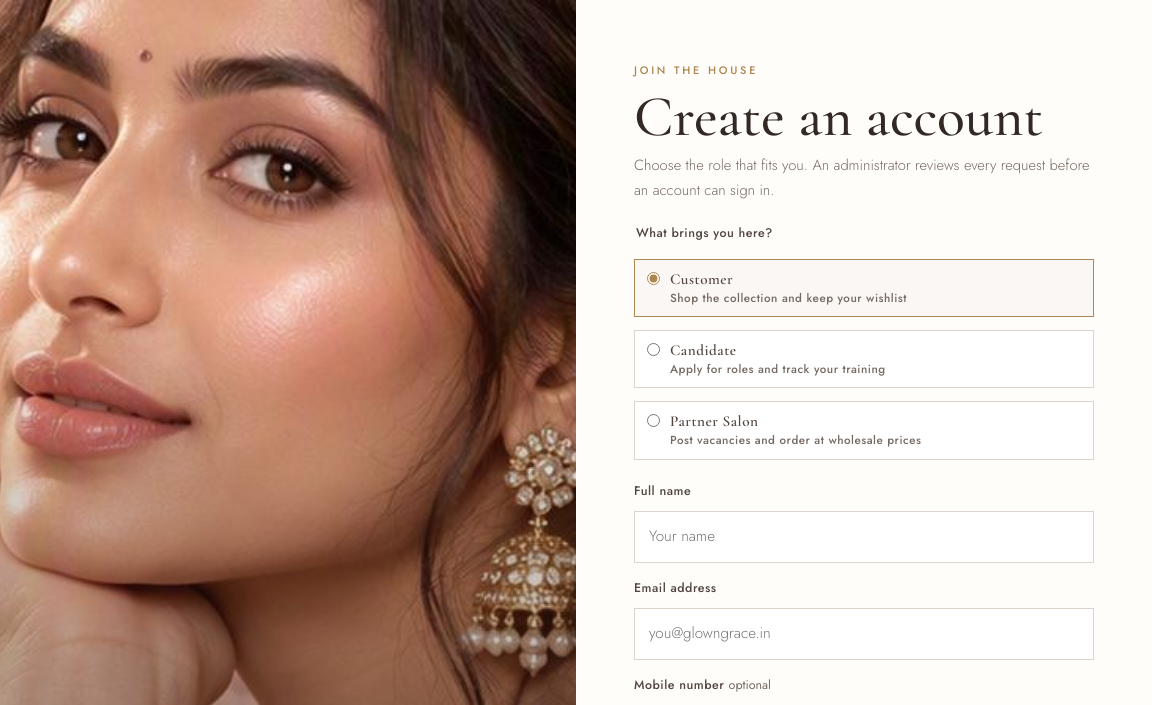
role-based registration › sends an address in lower case, the way the account is keyed
This screenshot has width=1152, height=705.
Type "Reha Qureshi" into the field labelled "Full name". click: (864, 537)
box: [634,511,1094,563]
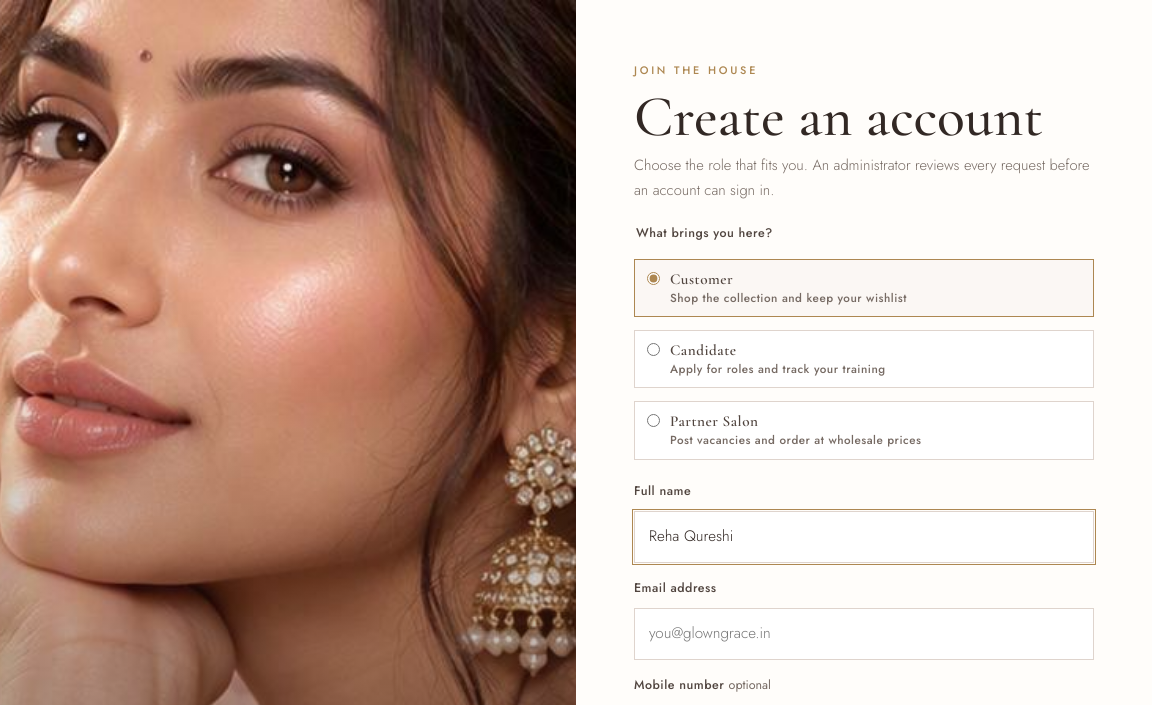
Type "  Reha@Example.COM " into the field labelled "Email address". click: (864, 634)
box: [634,608,1094,660]
(page scrolled)
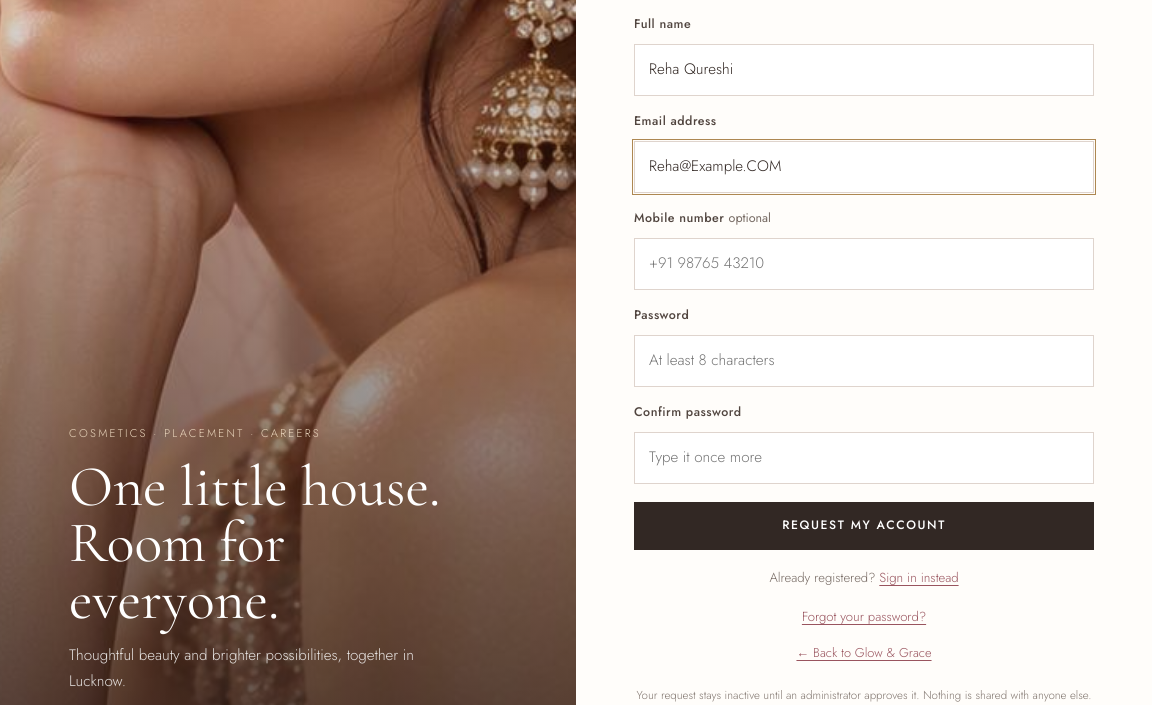
Type "a-good-password" into the password field labelled "Password". click: (864, 361)
box: [634,335,1094,387]
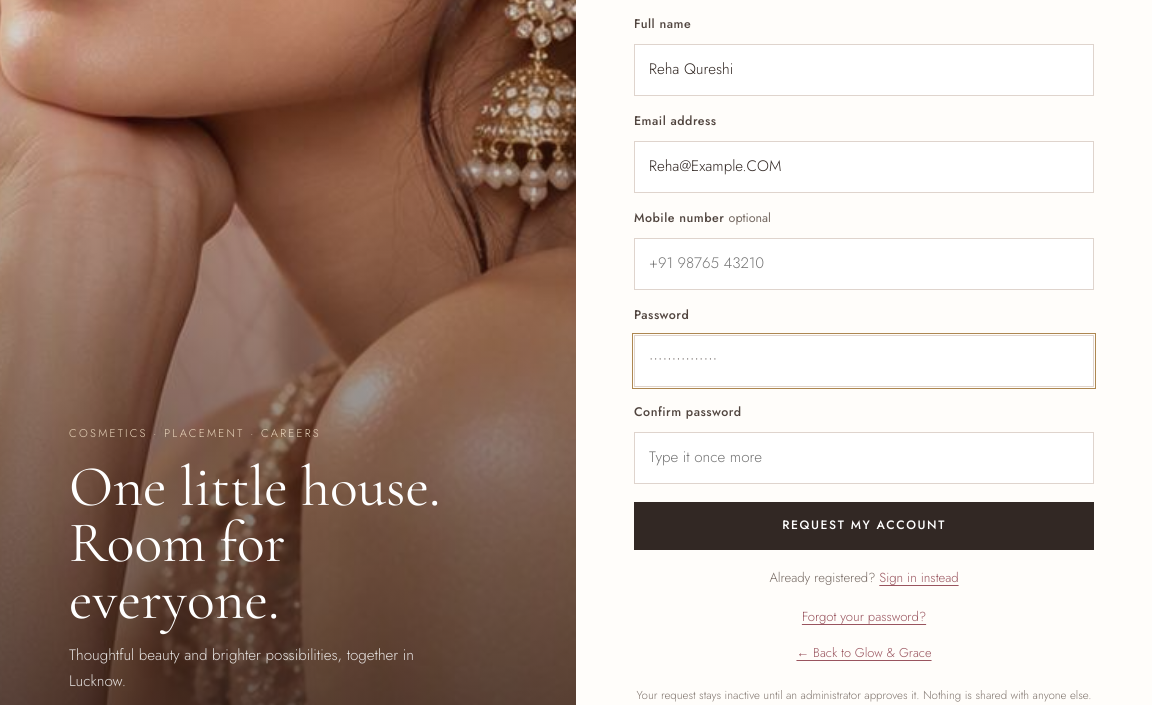
Type "a-good-password" into the password field labelled "Confirm password". click: (864, 458)
box: [634,432,1094,484]
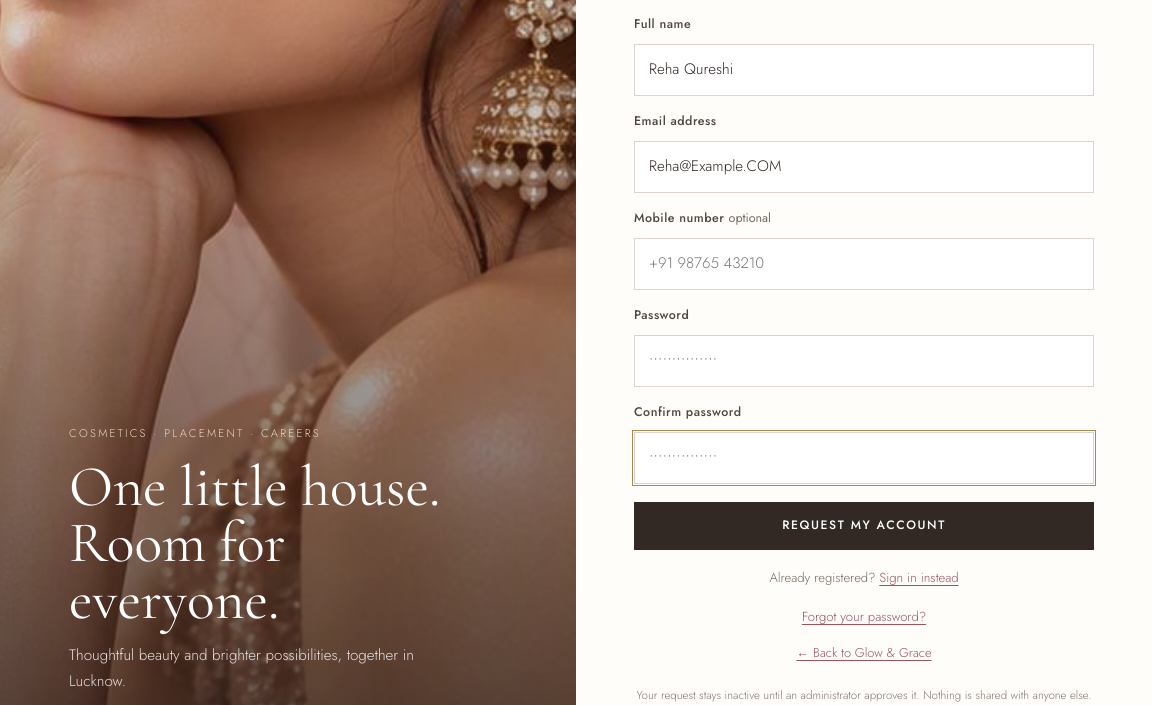
Click the button "Request my account". click: (864, 526)
box: [634,502,1094,550]
(page scrolled)
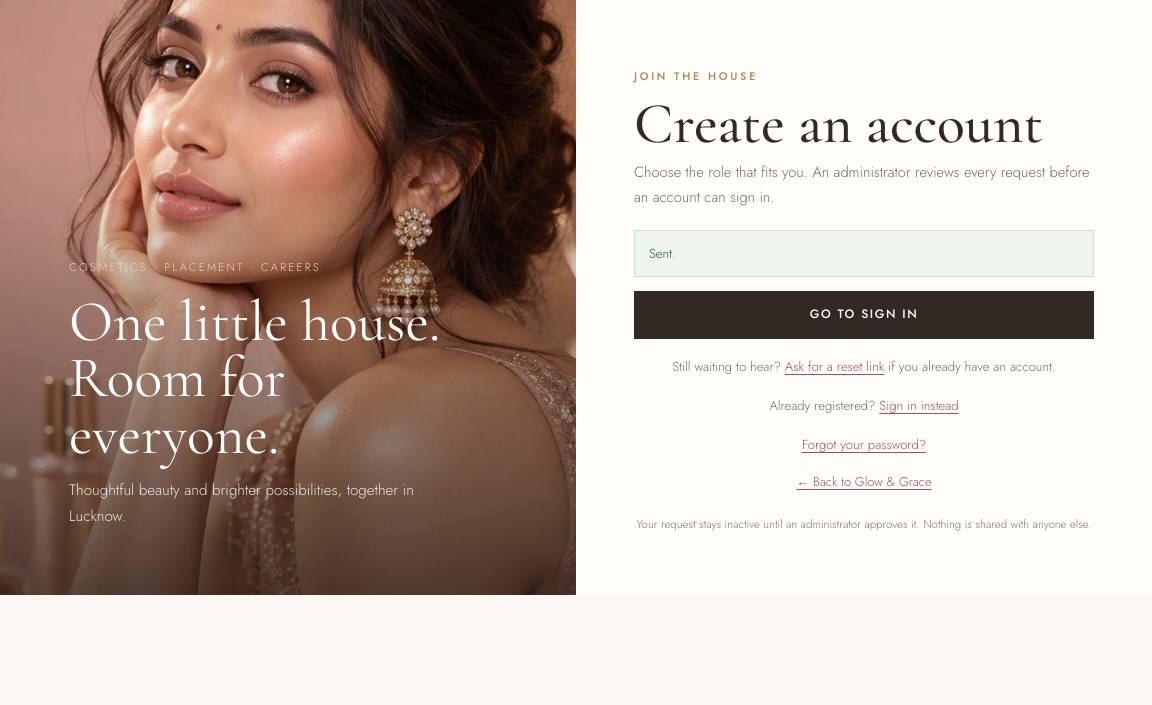
Now the text "Sent." is shown, box [634,230,1094,277]
